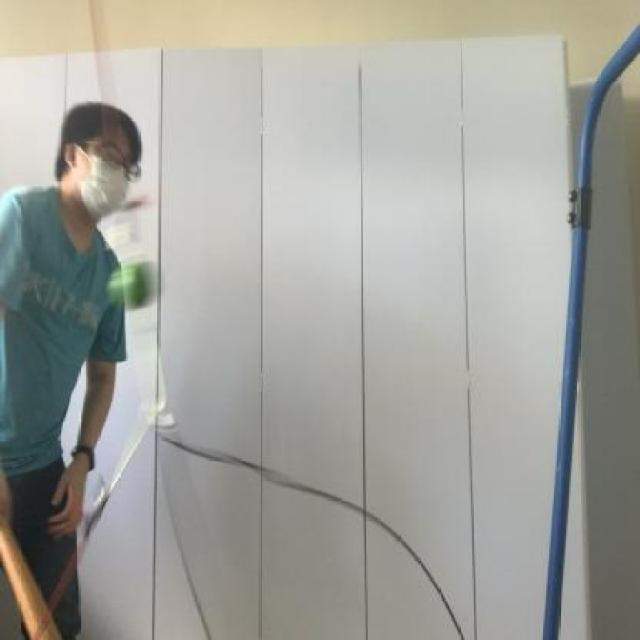baseball: (89, 243, 173, 314)
